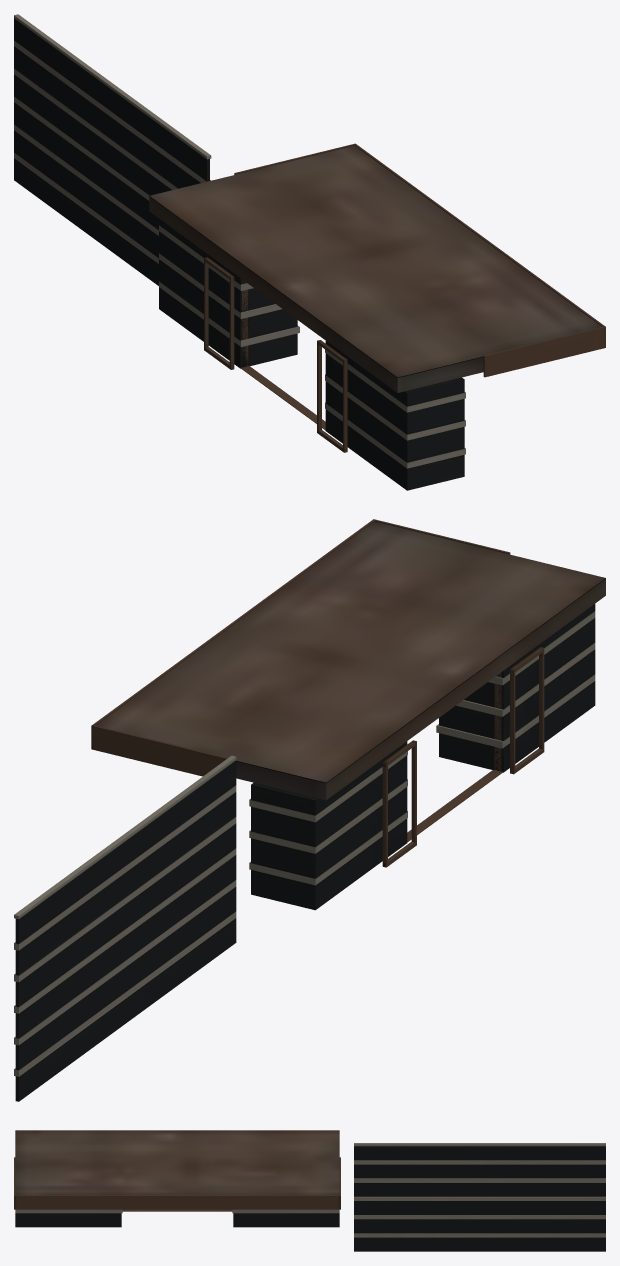
Rendered from arrival_entry.glb.
3 views of the same model, one above another, from view 1: azimuth 30°, elevation 25°; view 2: azimuth 150°, elevation 25°; view 3: azimuth 270°, elevation 25° (orthographic). The views are drawn at different scales.
Parts seen in each view (by area): view 1: arrival_entry; view 2: arrival_entry; view 3: arrival_entry.
Part boxes in pixels (x1,y1,x2,y2): arrival_entry: [14, 14, 605, 490]; arrival_entry: [14, 519, 605, 1101]; arrival_entry: [14, 1130, 605, 1251].
Bounding box in the file's own units: 4.34 × 3.3 × 16.44.
1 material, 1 textured.
